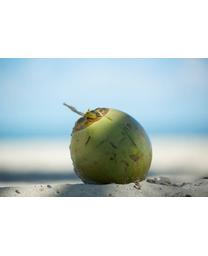coconut: (69, 106, 152, 185)
